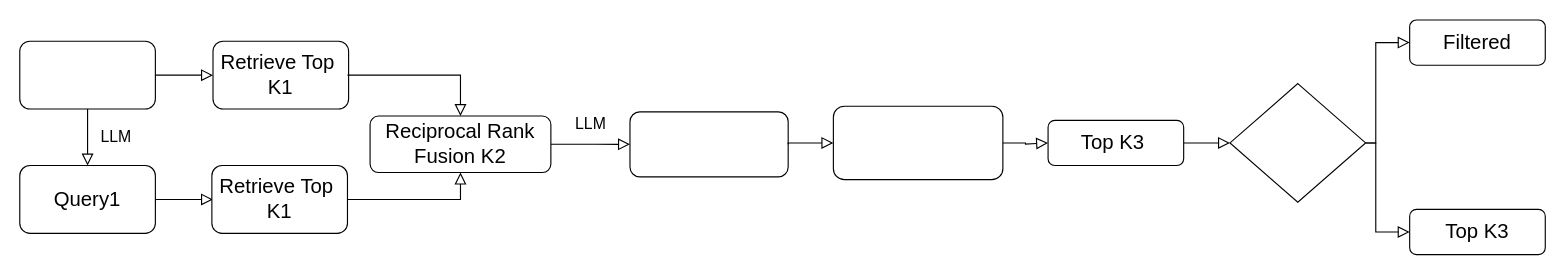
This 1565x275 diagram has some shape labels left out. Each missing label, with the centre of its shape:
"Original Query" goes at [87,74].
"Rerank With Predicted Answer" goes at [917,142].
"Score > 0.6" goes at [1297,142].
"Temp Answer Generation" goes at [708,144].
